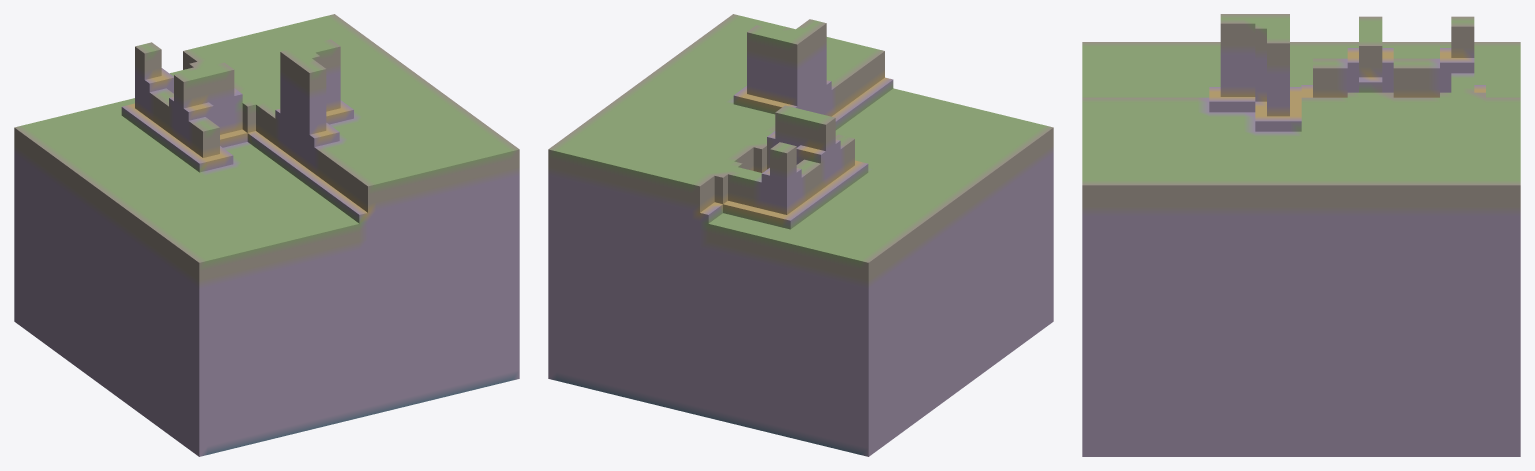
The model's file is temoin_planete.glb.
3 views of the same model, side by side, from view 1: azimuth 30°, elevation 25°; view 2: azimuth 150°, elevation 25°; view 3: azimuth 270°, elevation 25° (orthographic). The views are drawn at different scales.
Parts seen in each view (by area): view 1: MasterBlock; view 2: MasterBlock; view 3: MasterBlock.
Part boxes in pixels (<box>): MasterBlock: <box>14,14,519,456</box>; MasterBlock: <box>548,14,1053,456</box>; MasterBlock: <box>1082,14,1520,456</box>.
Bounding box in the file's own units: 9.5 × 8.5 × 9.5.
